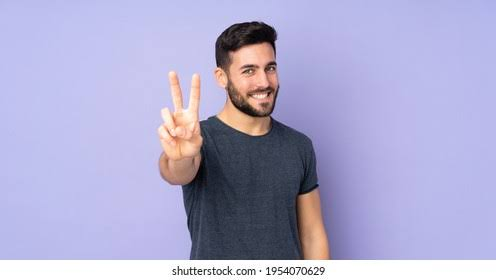peace_sign: (153, 69, 209, 163)
